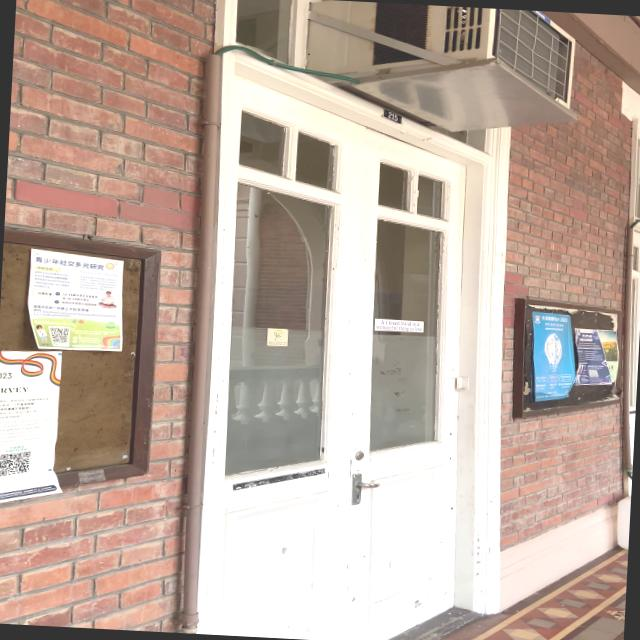room215: (381, 108, 405, 125)
